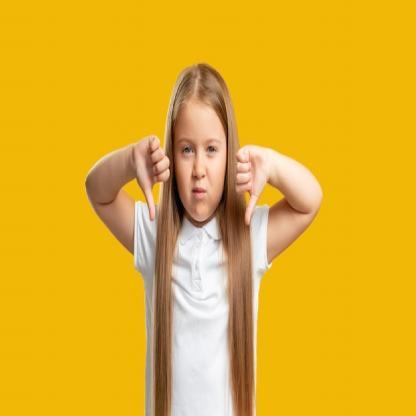thumb_down: (131, 134, 171, 223), (234, 144, 270, 230)
